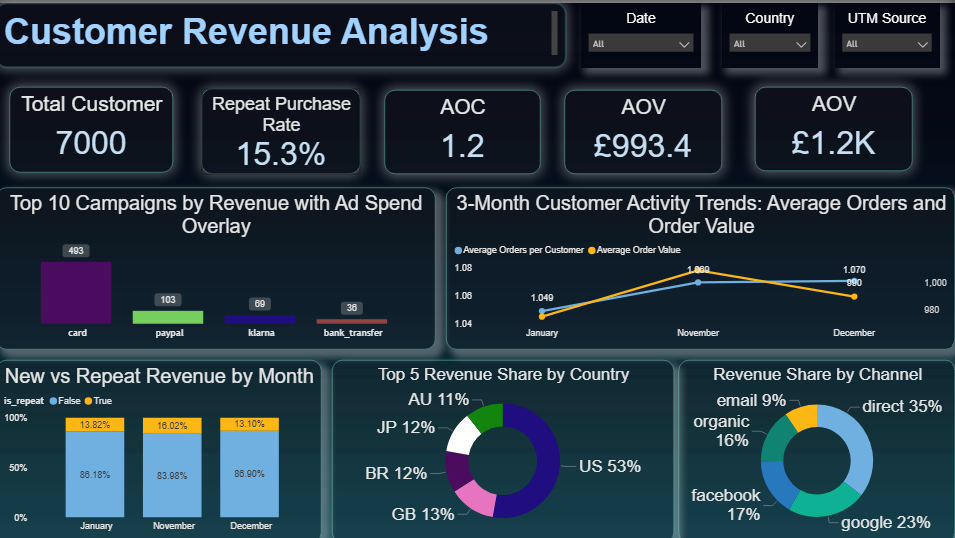

This screenshot's page, from the dashboard's own definition file:
{"tool":"powerbi","page":{"name":"Customer Revenue Analysis","canvas":[1280,720],"ordinal":2},"visuals":[{"type":"textbox","box":[0,0,760,86],"z":0},{"type":"card","title":"Total Customer","fields":{"Values":["Measure Table Customers.Total Customers"]},"box":[18,112,218,114],"z":1},{"type":"card","title":"AOC","fields":{"Values":["Measure Table Customers.Average Orders per Customer"]},"box":[518,116,208,112],"z":2},{"type":"card","title":"Repeat Purchase Rate","fields":{"Values":["Measure Table Customers.RepeatRate"]},"box":[274,114,212,114],"z":3},{"type":"card","title":"AOV","fields":{"Values":["Measure Table Customers.Average Order Value (AOV)"]},"box":[758,116,210,112],"z":4},{"type":"lineChart","title":"3-Month Customer Activity Trends: Average Orders and Order Value","fields":{"Category":["fact_crm_orders_transactions.order_date.Variation.Date Hierarchy.Month"],"Y":["Measure Table Customers.Average Orders per Customer"],"Y2":["Measure Table Customers.Average Order Value"]},"box":[600,246,680,216],"z":5},{"type":"donutChart","title":"Top 5 Revenue Share by Country","fields":{"Category":["dim_crm_contacts_transactions.country"],"Y":["Measure Table Customers.TotalRevenue"]},"box":[448,476,456,244],"z":6},{"type":"hundredPercentStackedColumnChart","title":"New vs Repeat Revenue by Month","fields":{"Category":["fact_crm_orders_transactions.order_date.Variation.Date Hierarchy.Month"],"Y":["Measure Table Customers.TotalRevenue"],"Series":["fact_crm_orders_transactions.is_repeat"]},"box":[0,476,434,244],"z":7},{"type":"donutChart","title":"Revenue Share by Channel","fields":{"Category":["fact_crm_orders_transactions.utm_source"],"Y":["Measure Table Customers.TotalRevenue"]},"box":[910,476,370,244],"z":8},{"type":"clusteredColumnChart","title":"Top 10 Campaigns by Revenue with Ad Spend Overlay","fields":{"Category":["fact_crm_orders_transactions.payment_method"],"Y":["Measure Table.Orders"]},"box":[0,246,586,216],"z":9},{"type":"shape","box":[780,0,478,126],"z":10},{"type":"slicer","title":"Date","fields":{"Values":["fact_crm_orders_transactions.order_date"]},"box":[780,0,160,86],"z":11},{"type":"slicer","title":"Country","fields":{"Values":["dim_crm_contacts_transactions.country"]},"box":[968,0,128,86],"z":12},{"type":"slicer","title":"UTM Source","fields":{"Values":["fact_crm_orders_transactions.utm_source"]},"box":[1118,0,140,86],"z":13},{"type":"card","title":"AOV","fields":{"Values":["Measure Table Customers.AvgLTV"]},"box":[1012,112,210,112],"z":14}]}

Visuals, with their boxes in screenshot pixels (x1, y1, x2, y2), scaled from the page's 1280x720 canvas onto the 955x538 screenshot:
textbox: bbox=(0, 0, 567, 64)
"Total Customer" card: bbox=(13, 84, 176, 169)
"AOC" card: bbox=(386, 87, 542, 170)
"Repeat Purchase Rate" card: bbox=(204, 85, 363, 170)
"AOV" card: bbox=(566, 87, 722, 170)
"3-Month Customer Activity Trends: Average Orders and Order Value" lineChart: bbox=(448, 184, 954, 345)
"Top 5 Revenue Share by Country" donutChart: bbox=(334, 356, 674, 537)
"New vs Repeat Revenue by Month" hundredPercentStackedColumnChart: bbox=(0, 356, 324, 537)
"Revenue Share by Channel" donutChart: bbox=(679, 356, 954, 537)
"Top 10 Campaigns by Revenue with Ad Spend Overlay" clusteredColumnChart: bbox=(0, 184, 437, 345)
shape: bbox=(582, 0, 939, 94)
"Date" slicer: bbox=(582, 0, 701, 64)
"Country" slicer: bbox=(722, 0, 818, 64)
"UTM Source" slicer: bbox=(834, 0, 939, 64)
"AOV" card: bbox=(755, 84, 912, 167)
